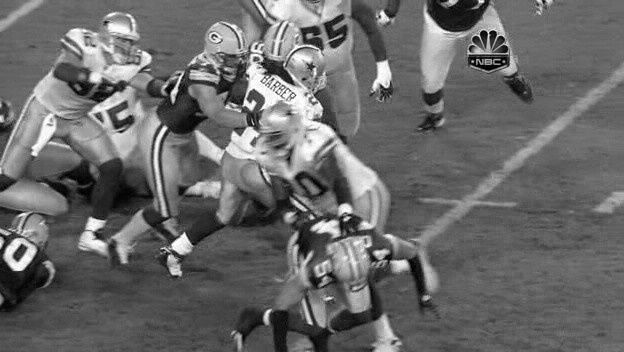person: (289, 45, 324, 90), (288, 45, 323, 90), (290, 45, 325, 90), (289, 44, 324, 89), (289, 46, 324, 91)
target_negative: (396, 45, 588, 284), (501, 253, 599, 323), (84, 215, 170, 275), (416, 131, 448, 292), (134, 216, 161, 317), (466, 259, 580, 266)
